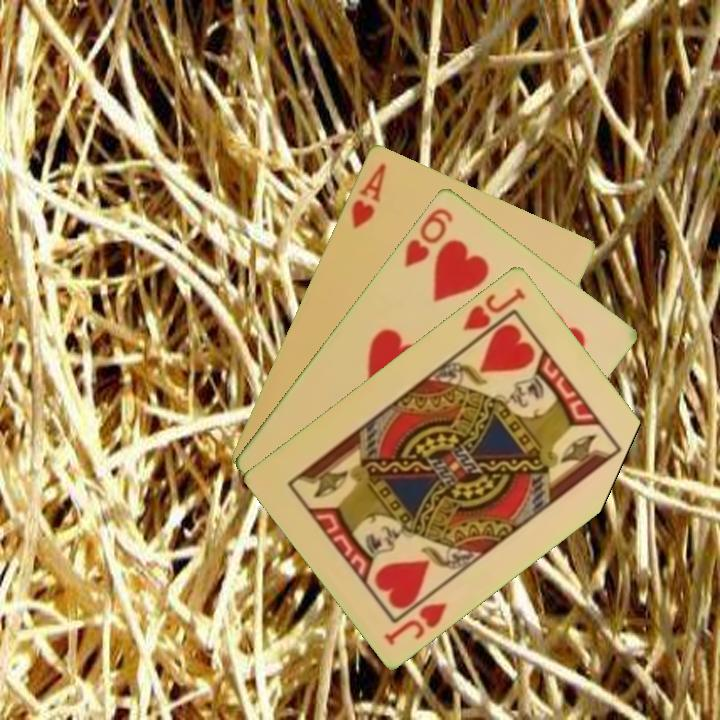6h: (400, 204, 457, 271)
Ah: (347, 159, 389, 231)
Jh: (458, 283, 529, 333), (380, 598, 450, 648)
